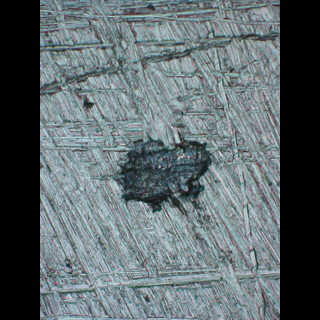d: (105, 133, 217, 215)
